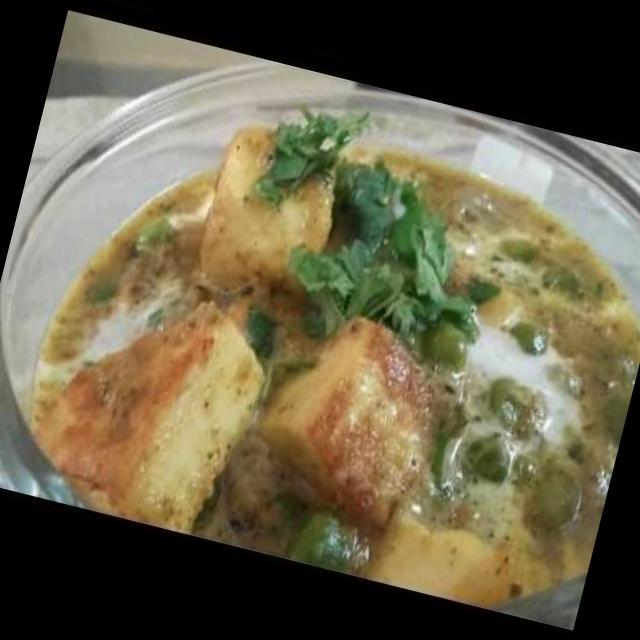ShahiPaneer: (0, 36, 640, 614)
